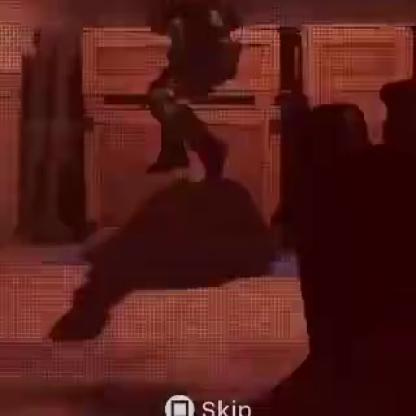enemy: (142, 4, 243, 183)
